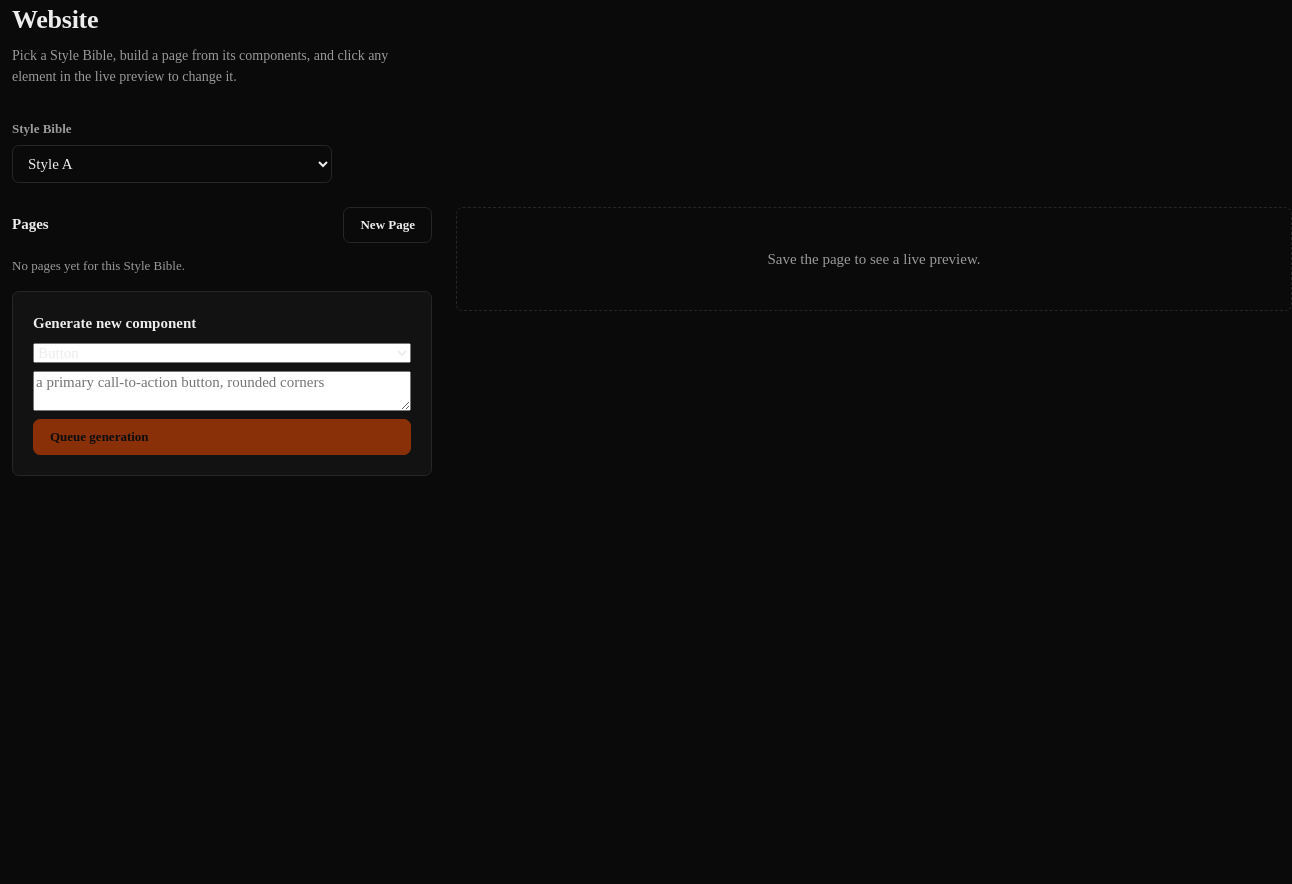
Test case: Website Workbench page - component selection kept after a failed order save › keeps the create-page form open (selections intact) when the page is created but saving its component order fails
Click the button "New Page". click: click(388, 224)
box: [344,206,432,242]
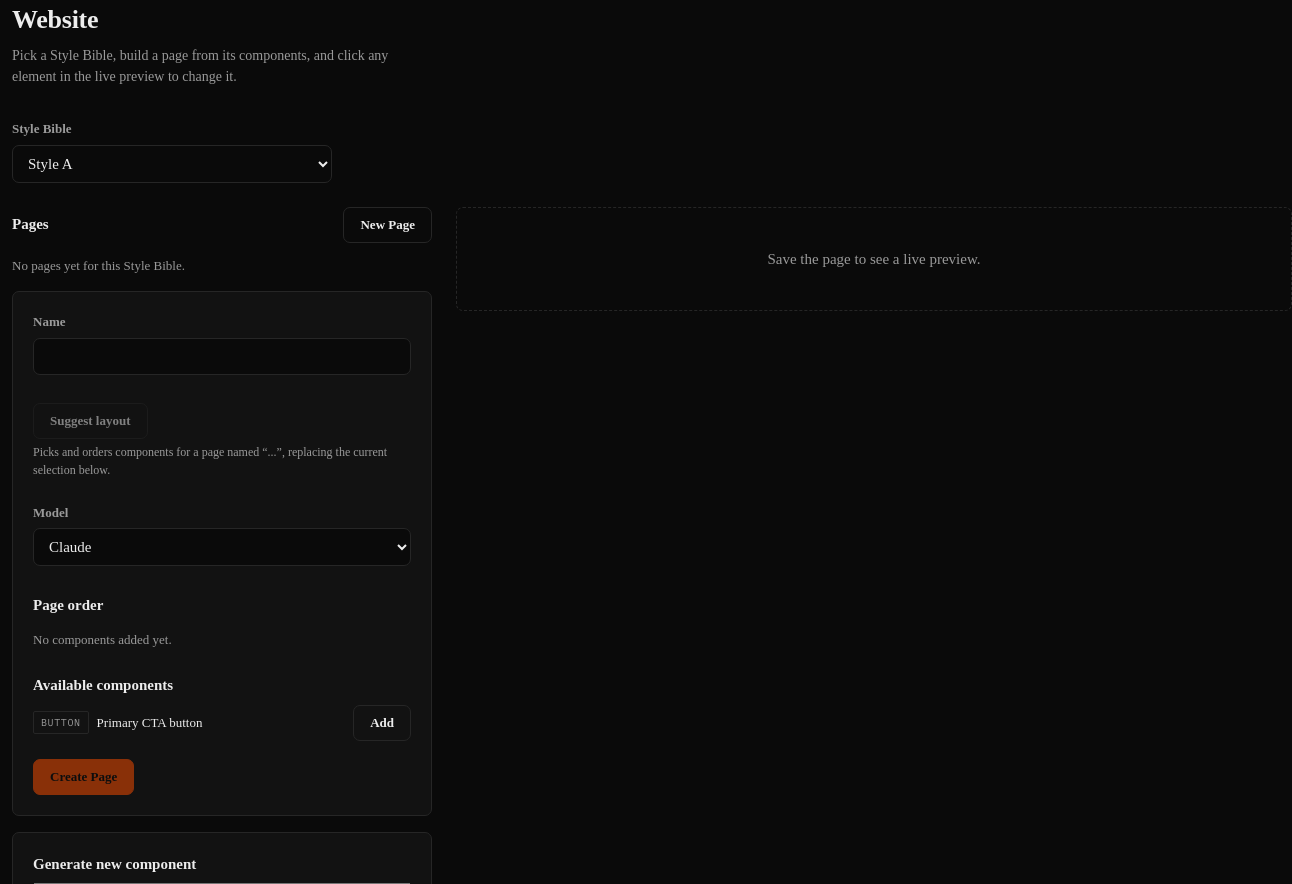
Type "My New Page" into the field labelled "Name". click: (222, 356)
box: [33,338,411,374]
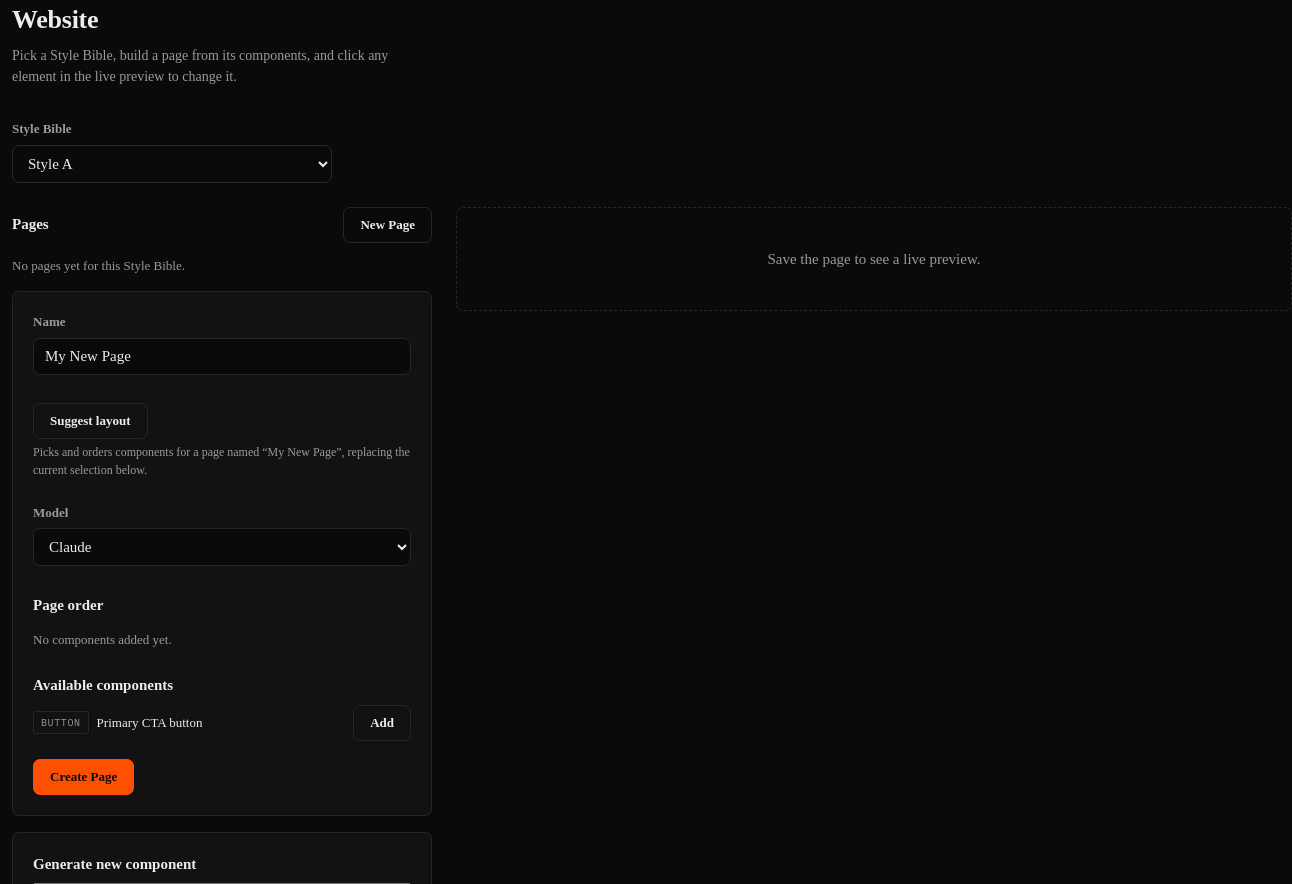
Click the button "Add". click: click(382, 722)
box: [353,704,411,740]
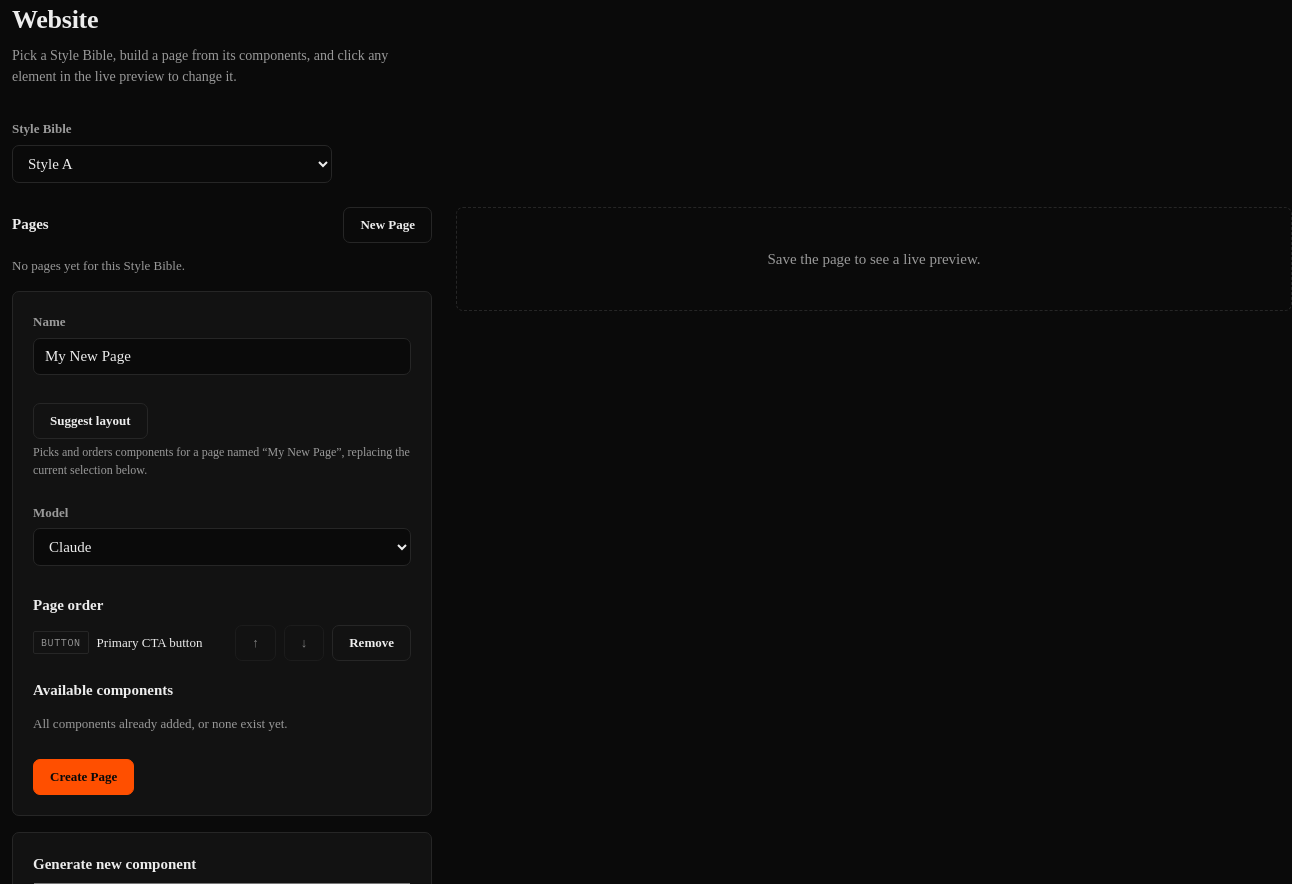
Click the button "Create Page". click: click(84, 776)
box: [33,758,134,794]
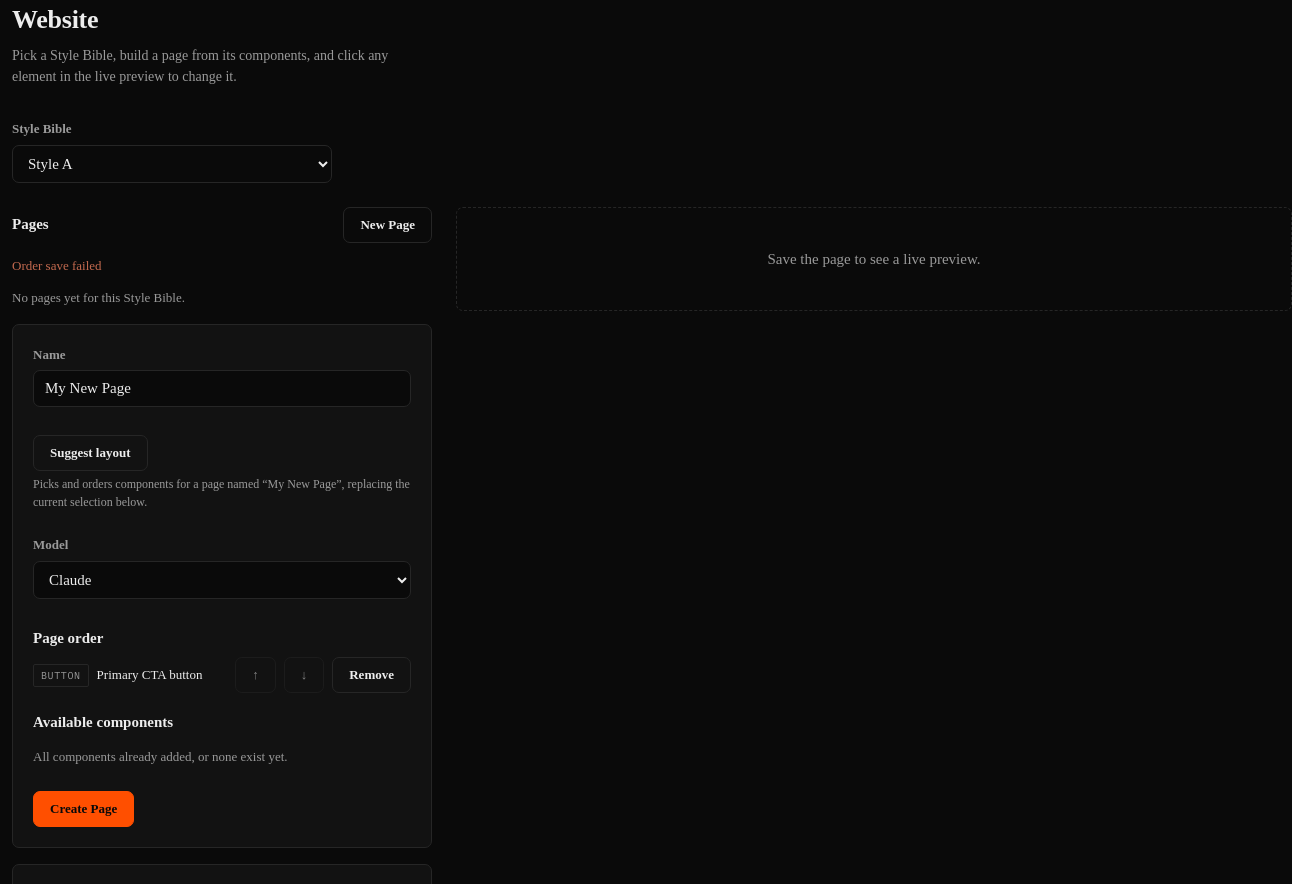
Result: the button "Create Page" is shown at [33,791,134,827]
Result: the text "Order save failed" is shown at [12,258,102,272]
